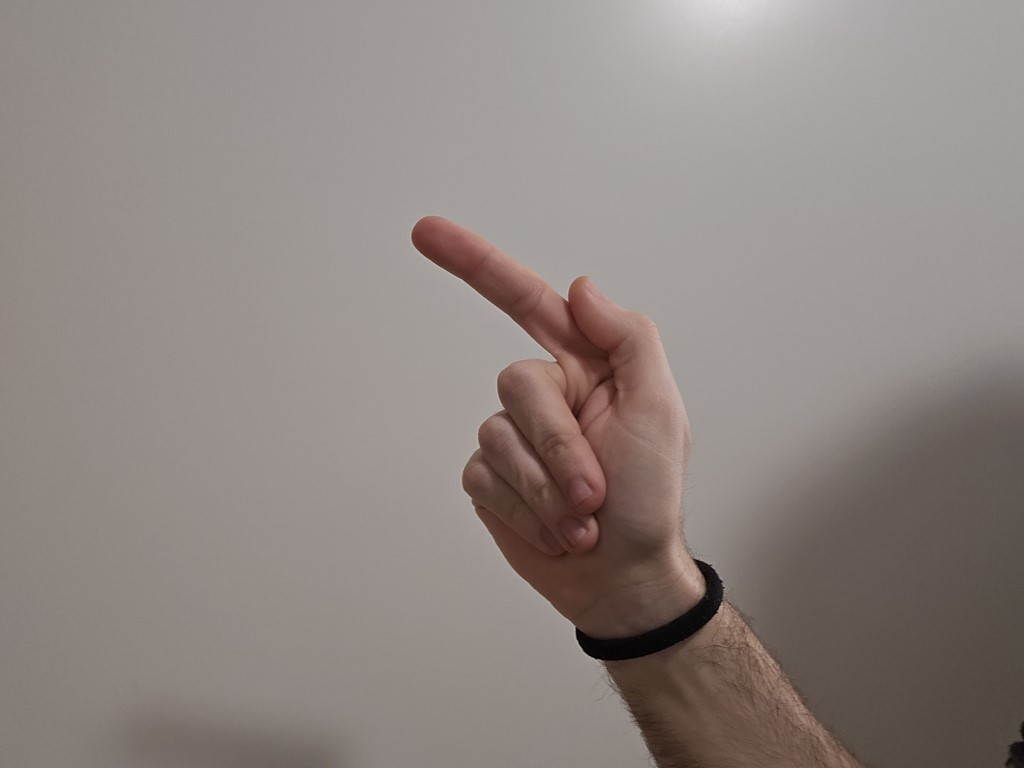g: (378, 190, 702, 601)
